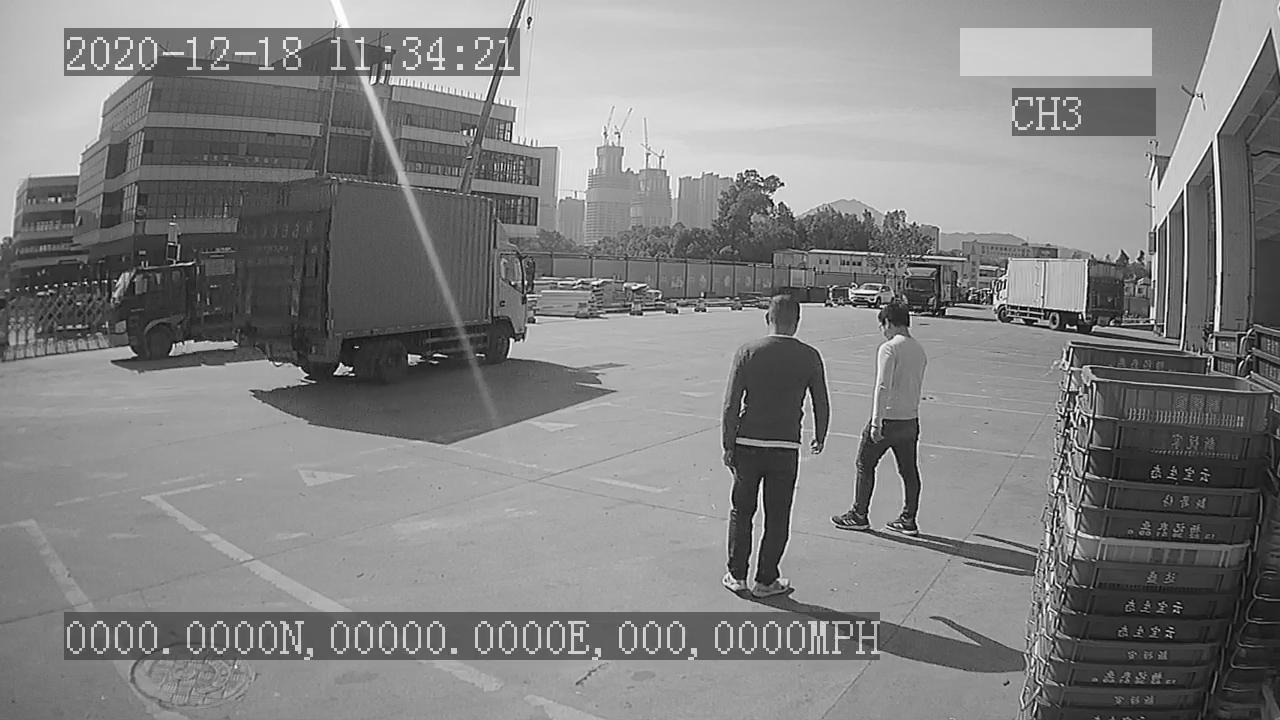person: (708, 290, 830, 603)
